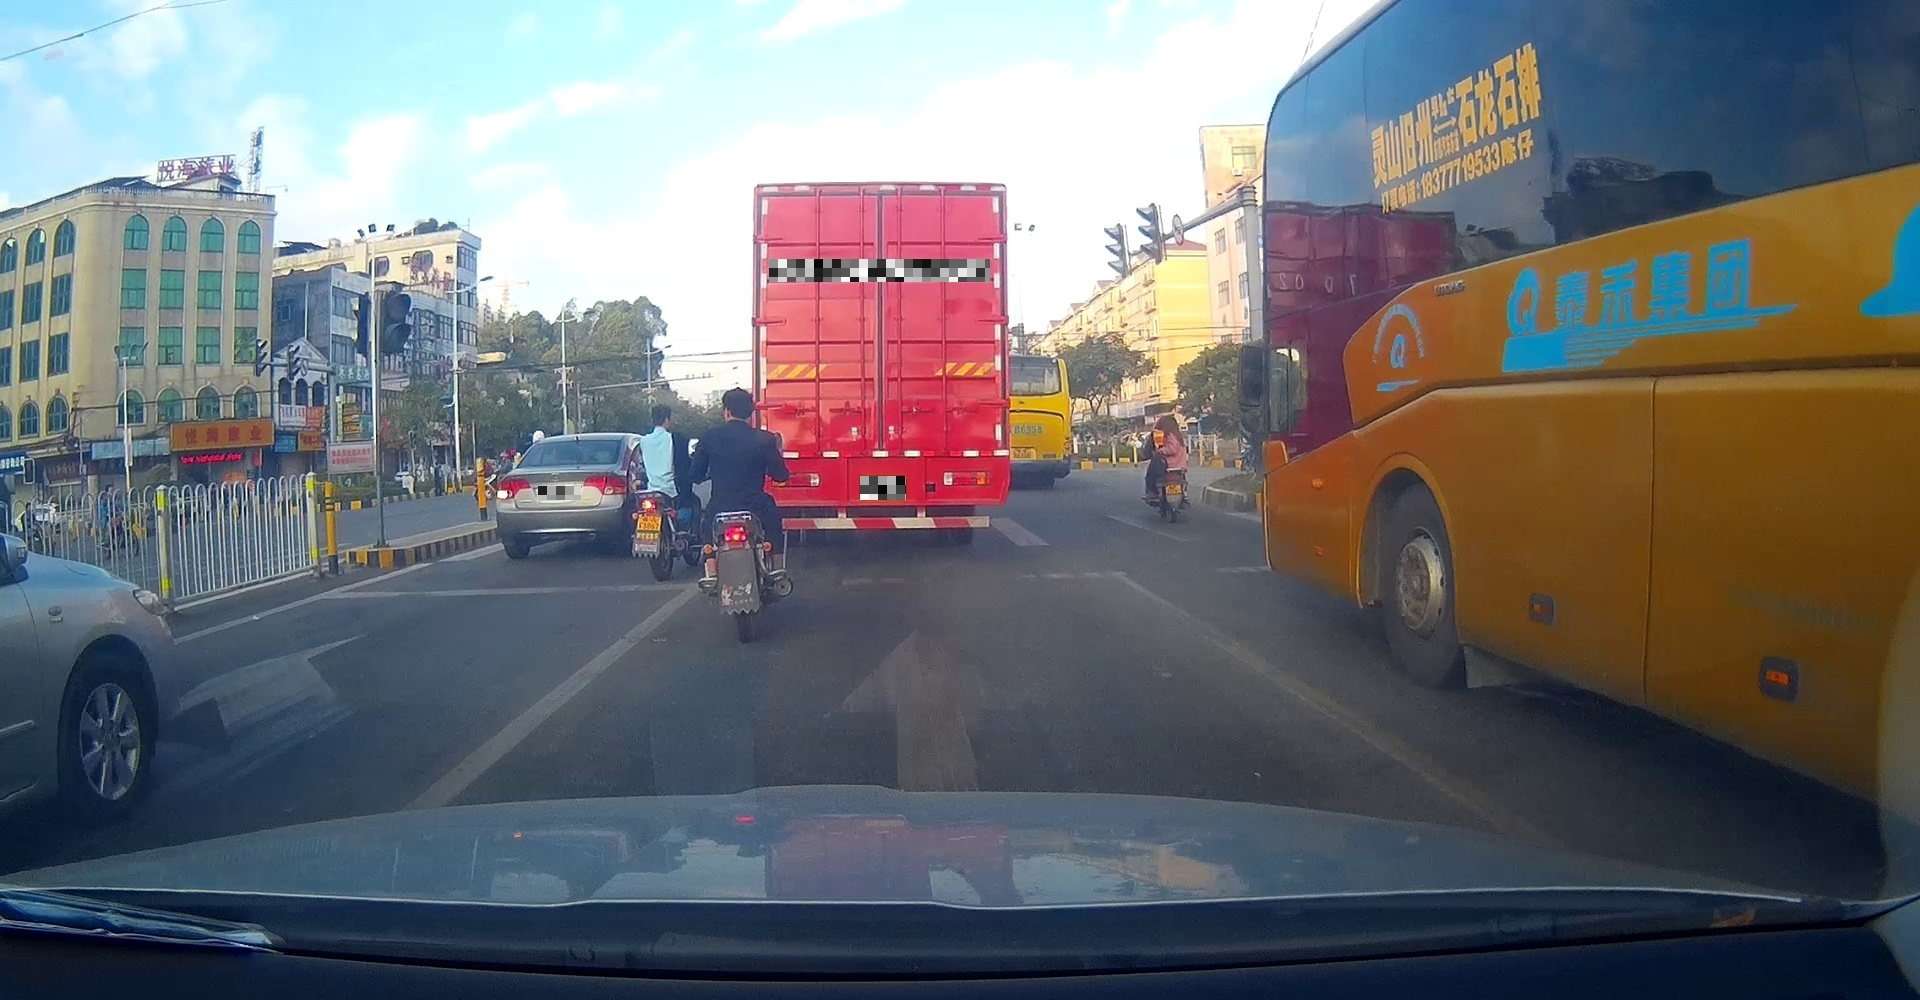L_light: (770, 472, 820, 489), (497, 477, 532, 500)
R_light: (582, 473, 626, 496), (943, 471, 990, 486)
T_light: (862, 187, 900, 201), (569, 437, 585, 443)
day-left: (497, 433, 626, 558)
day-no: (750, 181, 1008, 546)
plate_1: (538, 486, 582, 500)
plate_2: (770, 259, 990, 282)
plate_3: (860, 476, 905, 500)
